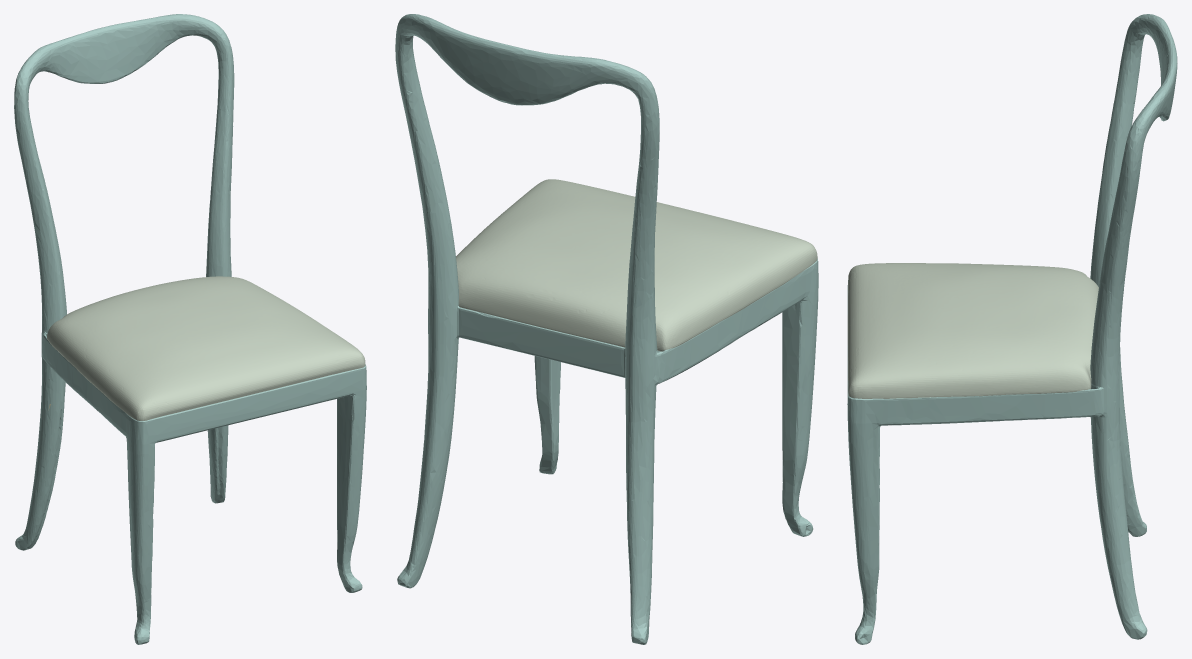
3 views of the same model, side by side, from view 1: azimuth 30°, elevation 25°; view 2: azimuth 150°, elevation 25°; view 3: azimuth 270°, elevation 25° (orthographic). The views are drawn at different scales.
Parts seen in each view (by area): view 1: world; view 2: world; view 3: world.
Boxes of the visible parts, bbox=[...] form: world: bbox=[14, 14, 366, 644]; world: bbox=[395, 14, 818, 644]; world: bbox=[847, 14, 1177, 644].
Bounding box in the file's own units: 0.9525 × 1.91 × 1.07.
